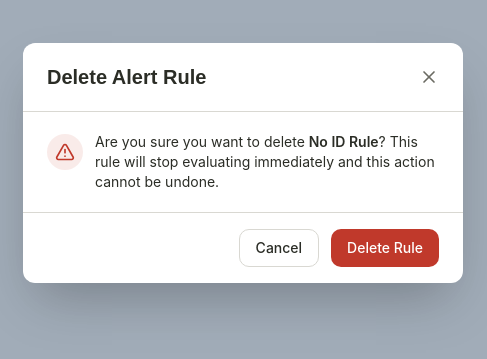
Scenario: DeleteAlertRuleModal › sets error when rule has no id
What coordinates should you click on to do the following:
click the button "Delete Rule"
I would click on:
 (385, 248)
Its box is [331,229,439,267].
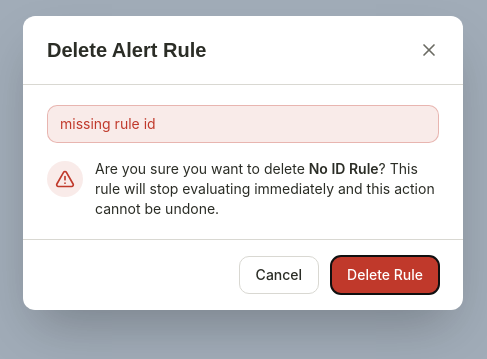
Result: the text "missing rule id" is shown at [47,105,439,143]
